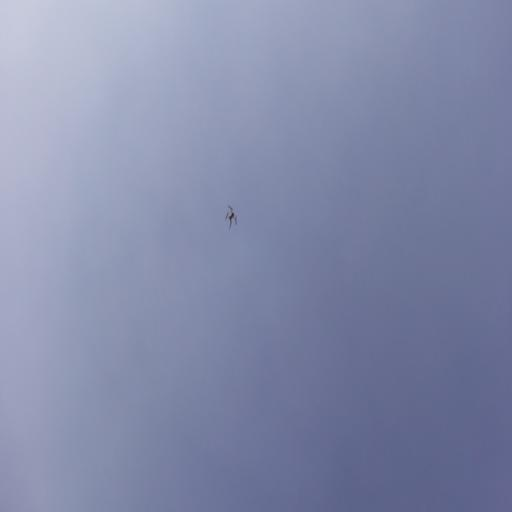drones: (224, 204, 238, 230)
